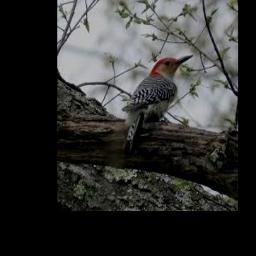Woodpecker: (122, 54, 194, 152)
